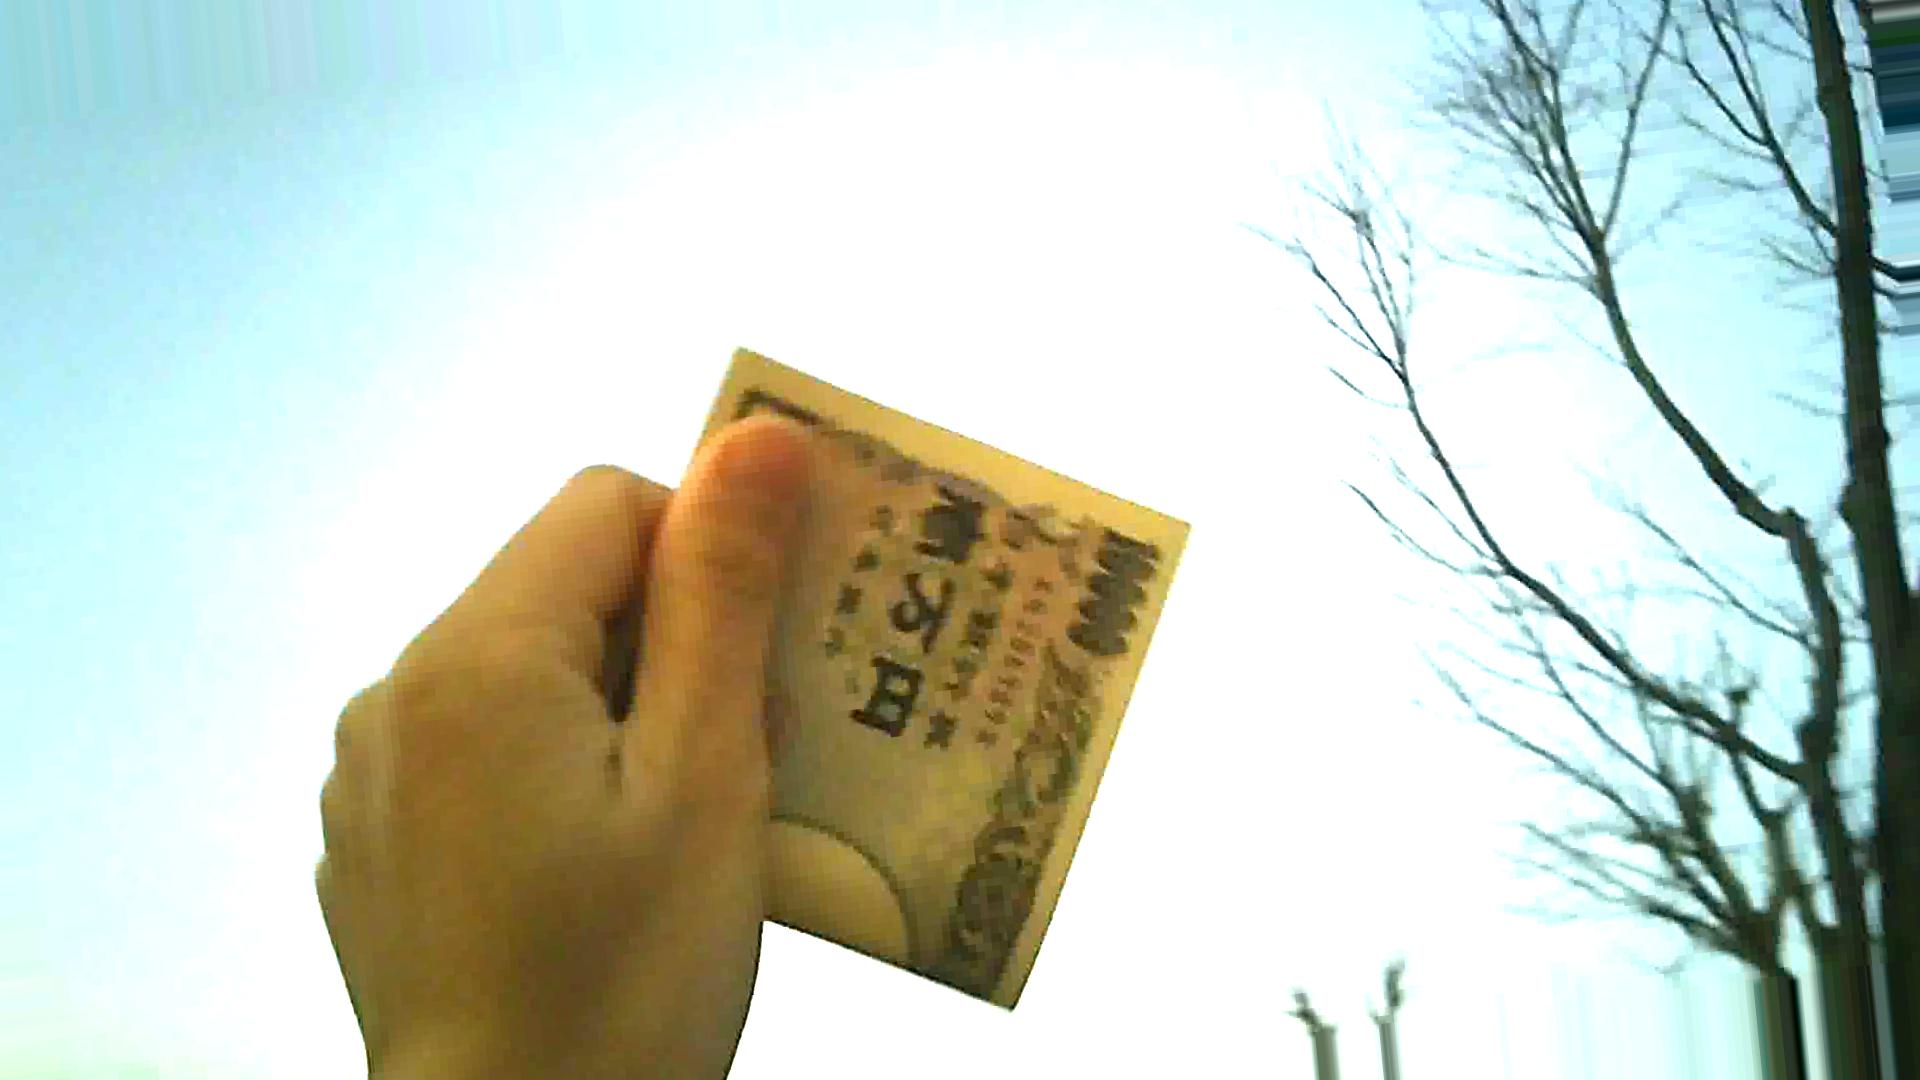10,000 Yen: (604, 330, 1174, 1006)
